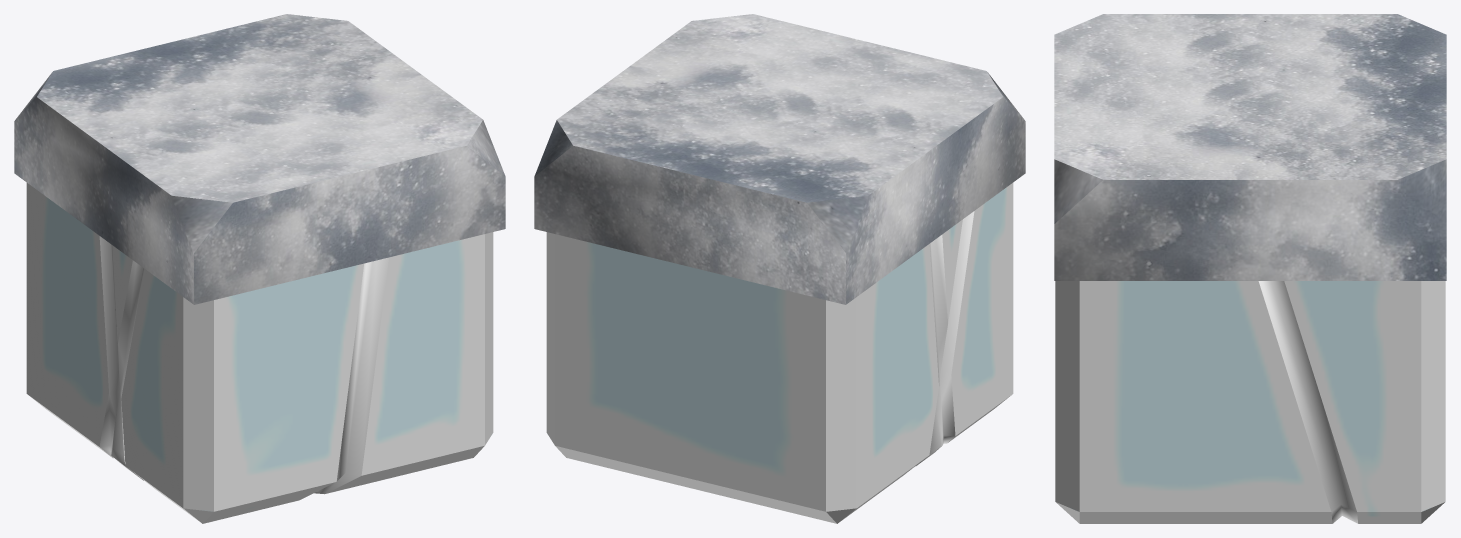
File: ice_cube_small_01.fbx
The picture shows the model from 3 angles, left to right: view 1: azimuth 30°, elevation 25°; view 2: azimuth 150°, elevation 25°; view 3: azimuth 270°, elevation 25°; orthographic projection. The views are drawn at different scales.
Parts seen in each view (by area): view 1: Cube, Plane; view 2: Cube, Plane; view 3: Plane, Cube.
Boxes of the visible parts, x1,y1,x2,y2 form: Cube: (26, 183, 493, 523); Plane: (14, 14, 505, 304); Cube: (546, 183, 1013, 523); Plane: (534, 14, 1025, 304); Plane: (1054, 14, 1446, 280); Cube: (1055, 281, 1445, 523).
Size of the model in its own units: 201 by 201 by 201.
